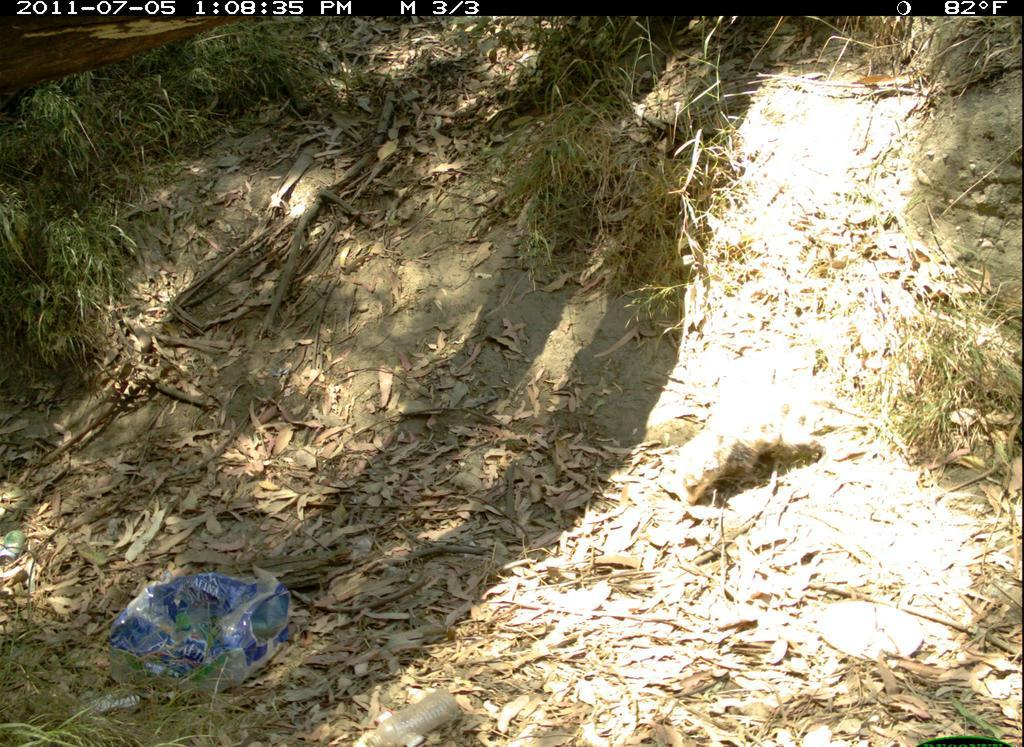opossum: (670, 383, 917, 504)
